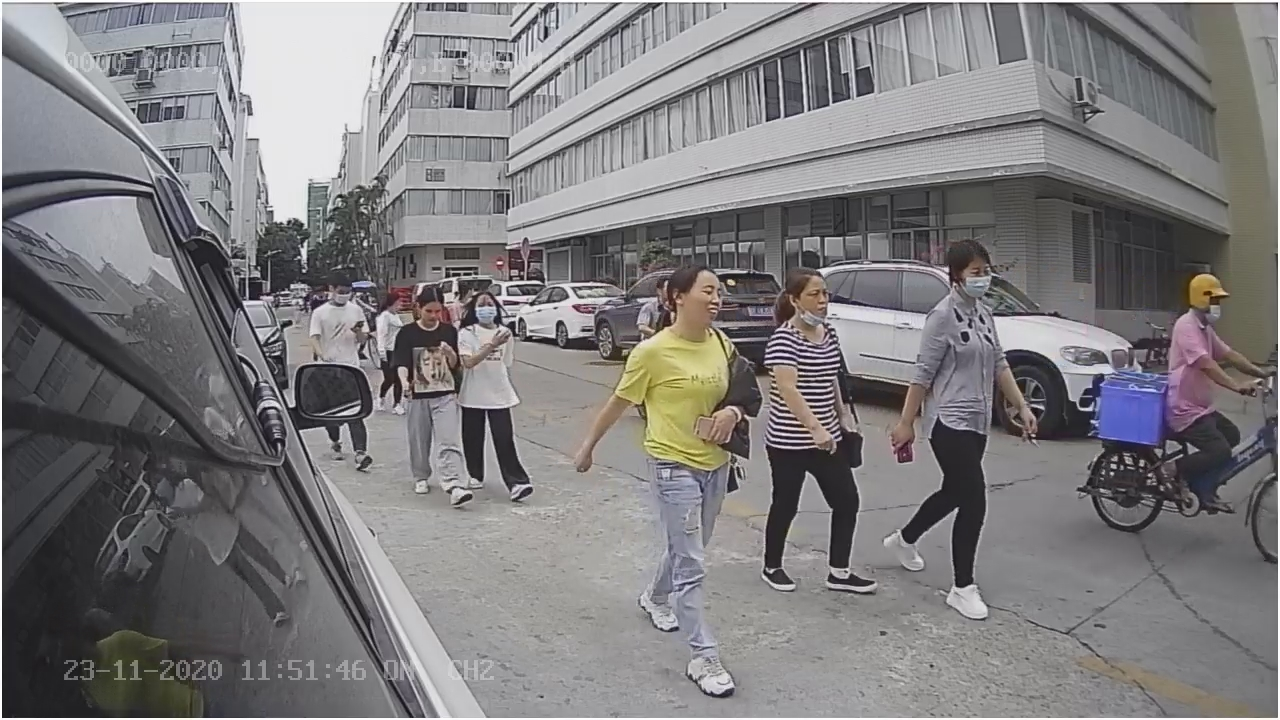person: (570, 237, 759, 699), (884, 237, 1033, 619), (392, 281, 472, 509), (1171, 258, 1278, 392)
